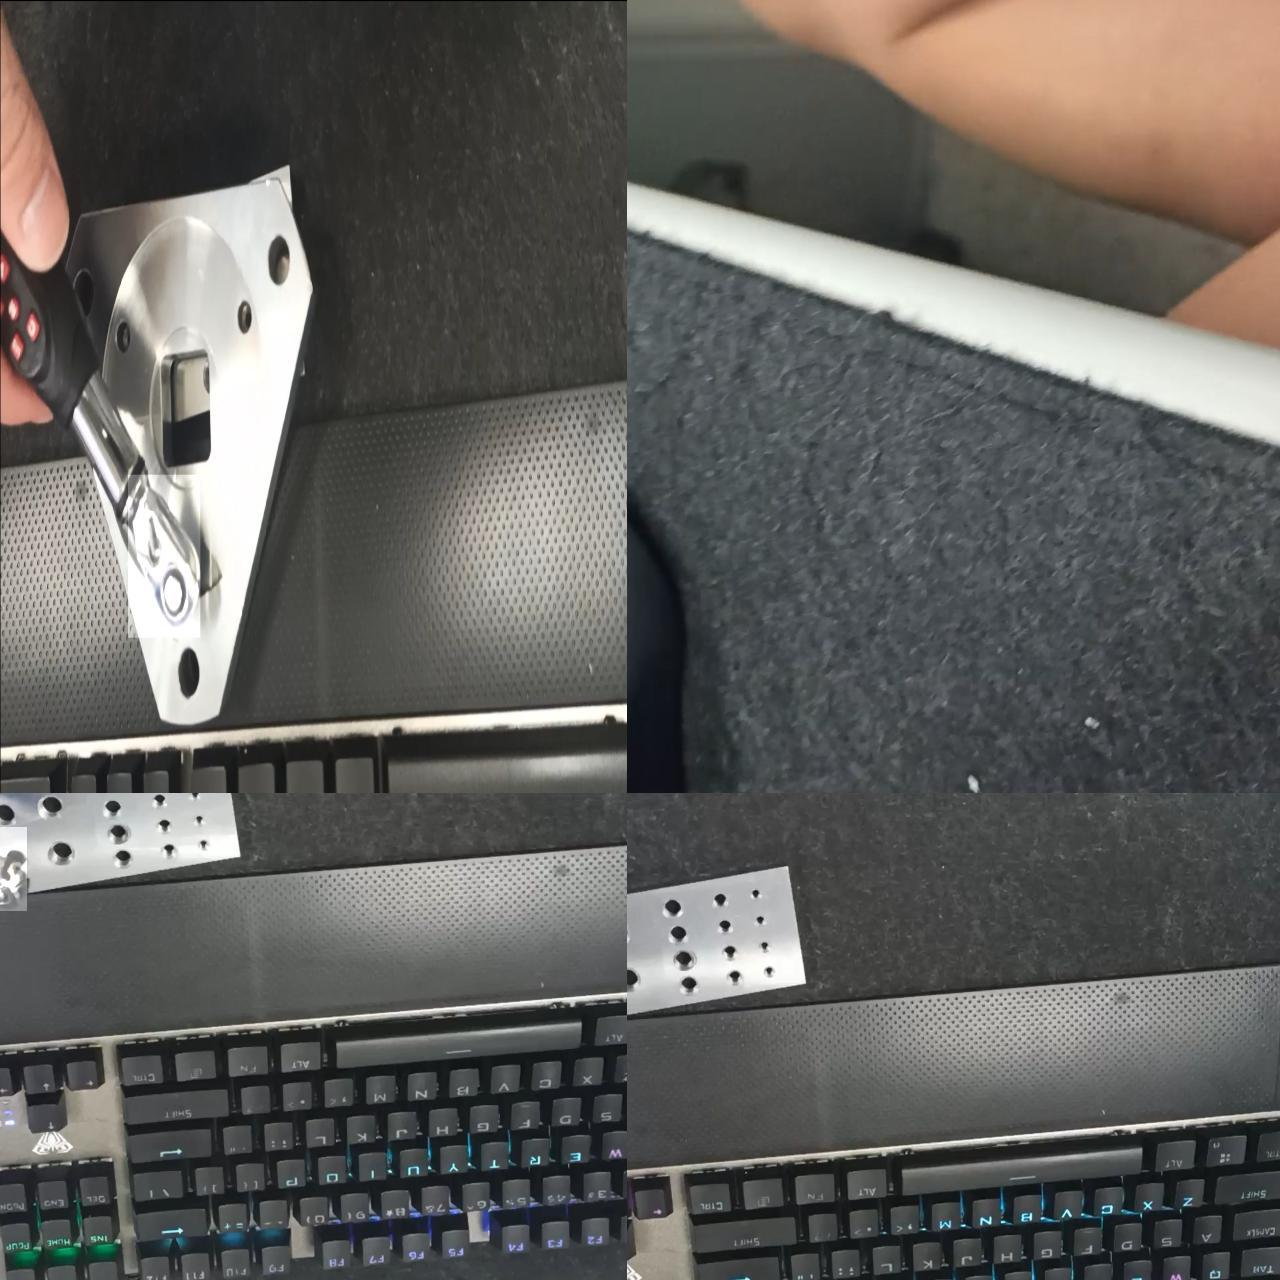Tool: (123, 478, 199, 638), (2, 832, 29, 912)
hole: (254, 229, 299, 295), (170, 648, 210, 710), (76, 261, 105, 314), (113, 318, 138, 362), (232, 295, 256, 336), (101, 796, 129, 824), (105, 850, 137, 870), (710, 888, 734, 913), (662, 896, 685, 920), (667, 924, 690, 945), (673, 949, 693, 973), (108, 825, 131, 845), (161, 840, 181, 860), (715, 918, 734, 939), (721, 942, 740, 962), (747, 884, 764, 905), (679, 975, 697, 994), (152, 794, 170, 811), (196, 837, 212, 855), (157, 818, 175, 835), (760, 937, 774, 956), (726, 971, 742, 987), (754, 913, 769, 930), (193, 811, 205, 826), (763, 966, 775, 980), (189, 792, 205, 801)
